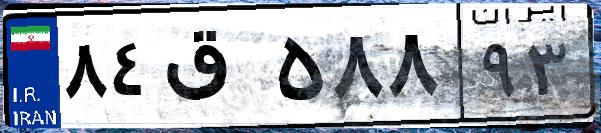3: (525, 38, 570, 115)
4: (110, 28, 158, 98)
5: (270, 28, 330, 110)
8: (385, 28, 445, 110), (330, 28, 385, 110), (57, 26, 110, 100)
9: (475, 38, 525, 113)
ق: (158, 20, 270, 120)
